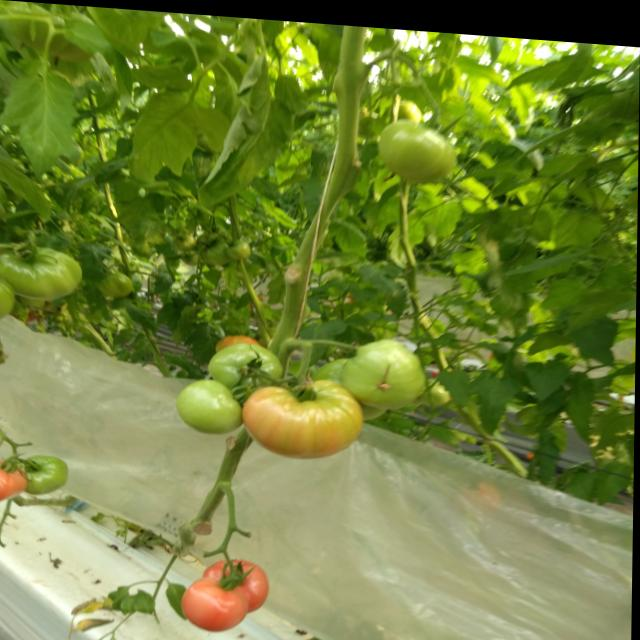yesil: (186, 328, 425, 394), (379, 116, 471, 226), (2, 233, 81, 313)
